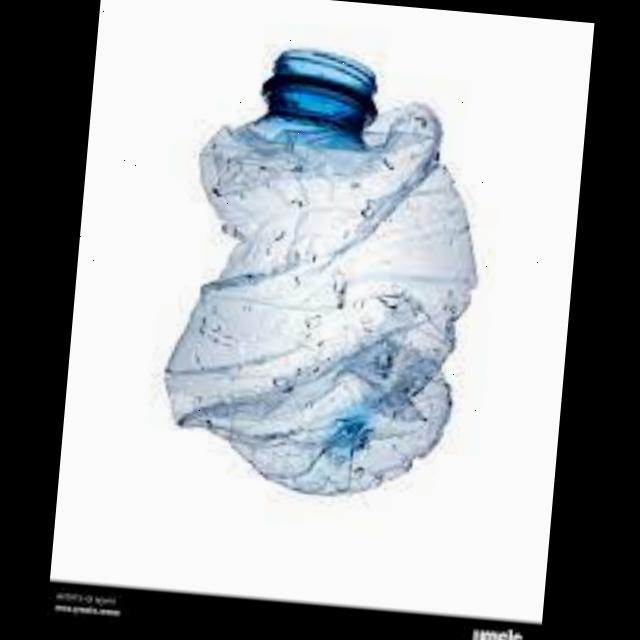trash: (144, 22, 508, 507)
